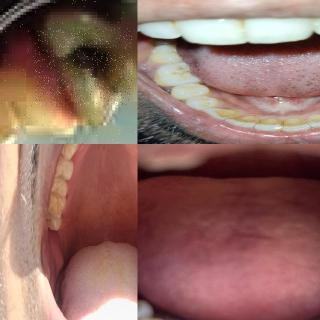calculus: (232, 114, 264, 127), (281, 117, 310, 129), (258, 116, 284, 128), (195, 87, 219, 99), (182, 78, 208, 87), (216, 109, 238, 119), (302, 113, 320, 125)
cavities: (50, 26, 120, 108)
